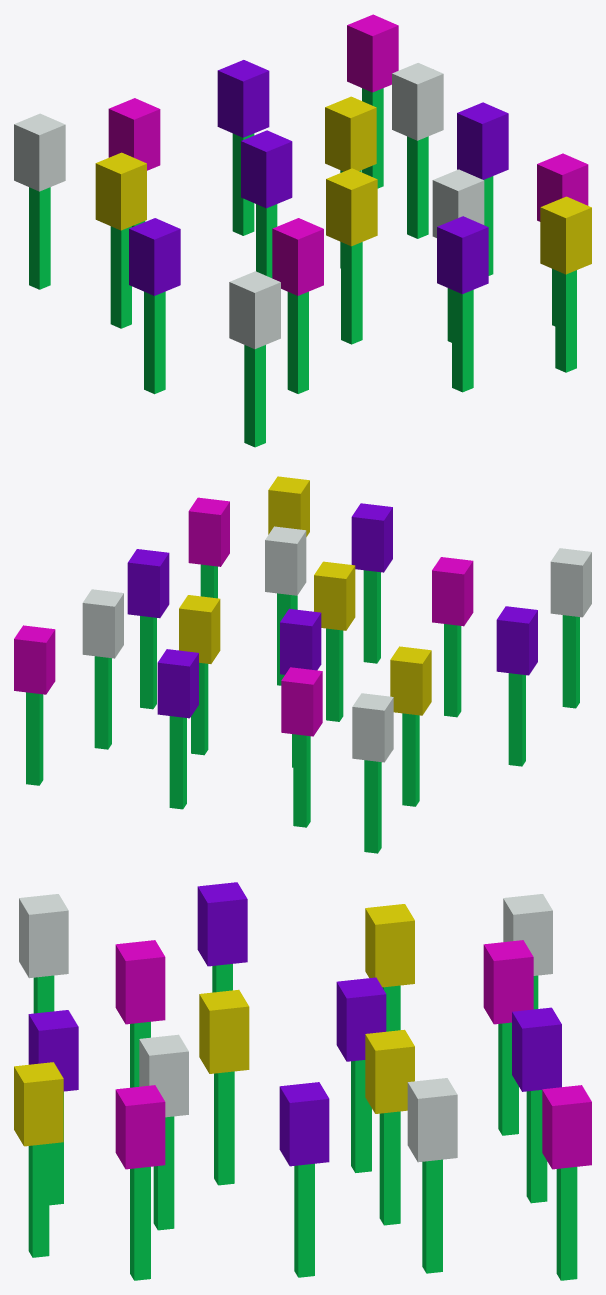
File: TulipPatch.fbx
The picture shows the model from 3 angles, top to bottom: view 1: azimuth 30°, elevation 25°; view 2: azimuth 150°, elevation 25°; view 3: azimuth 270°, elevation 25°; orthographic projection. The views are drawn at different scales.
Visible parts, largest first — view 1: Cube.001; view 2: Cube.001; view 3: Cube.001.
Boxes of the visible parts, bbox=[...] form: Cube.001: bbox=[14, 14, 591, 447]; Cube.001: bbox=[14, 476, 591, 853]; Cube.001: bbox=[14, 882, 591, 1280].
Size of the model in its own units: 169 by 156 by 58.76.
